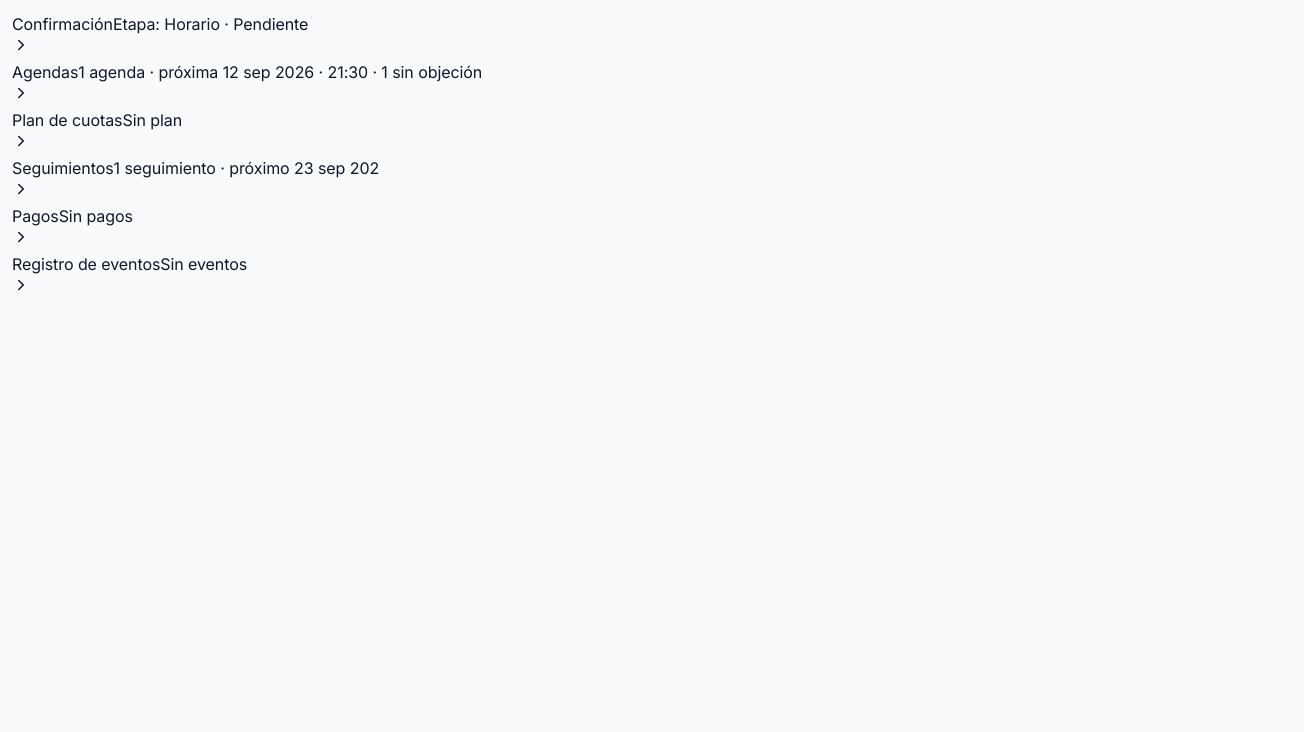
la objeción de una llamada que no cerró, en el historial › si el backend la rechaza, el motivo queda al lado del botón y el texto no se pierde
Click the button "Agendas". click: (247, 81)
box: [12, 60, 482, 102]
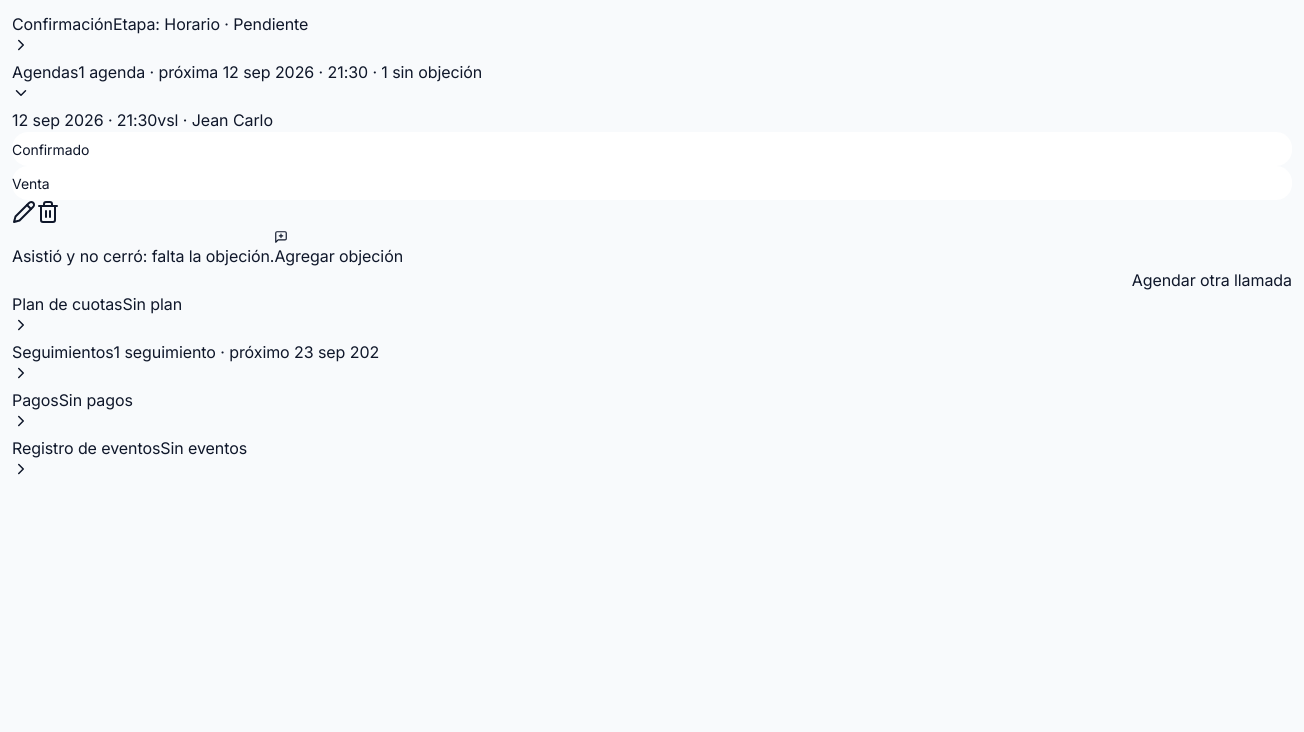
Click the button with aria-label "Agregar la objeción". click: (339, 249)
box: [274, 230, 403, 268]
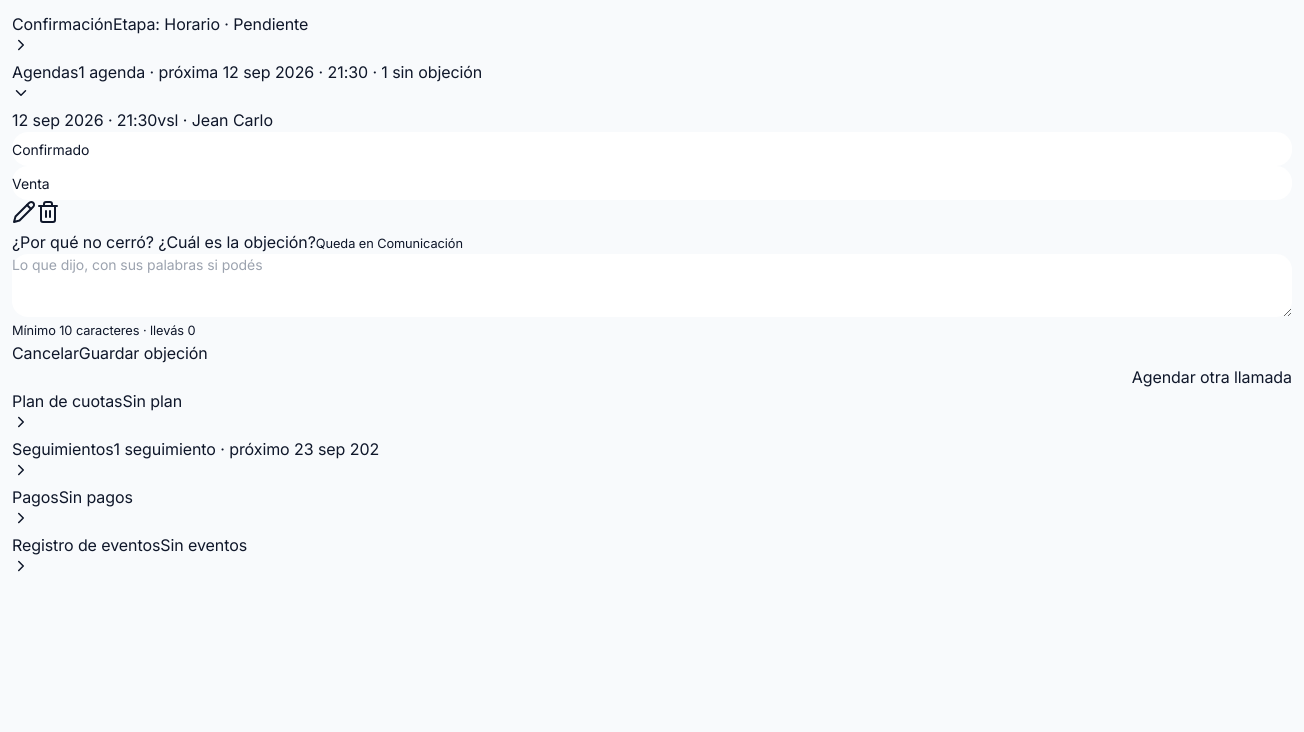
Type "Lo tiene que pensar bien" into the text box labelled "¿Por qué no cerró? ¿Cuál es la objeción?". click: (652, 286)
box: [12, 254, 1292, 317]
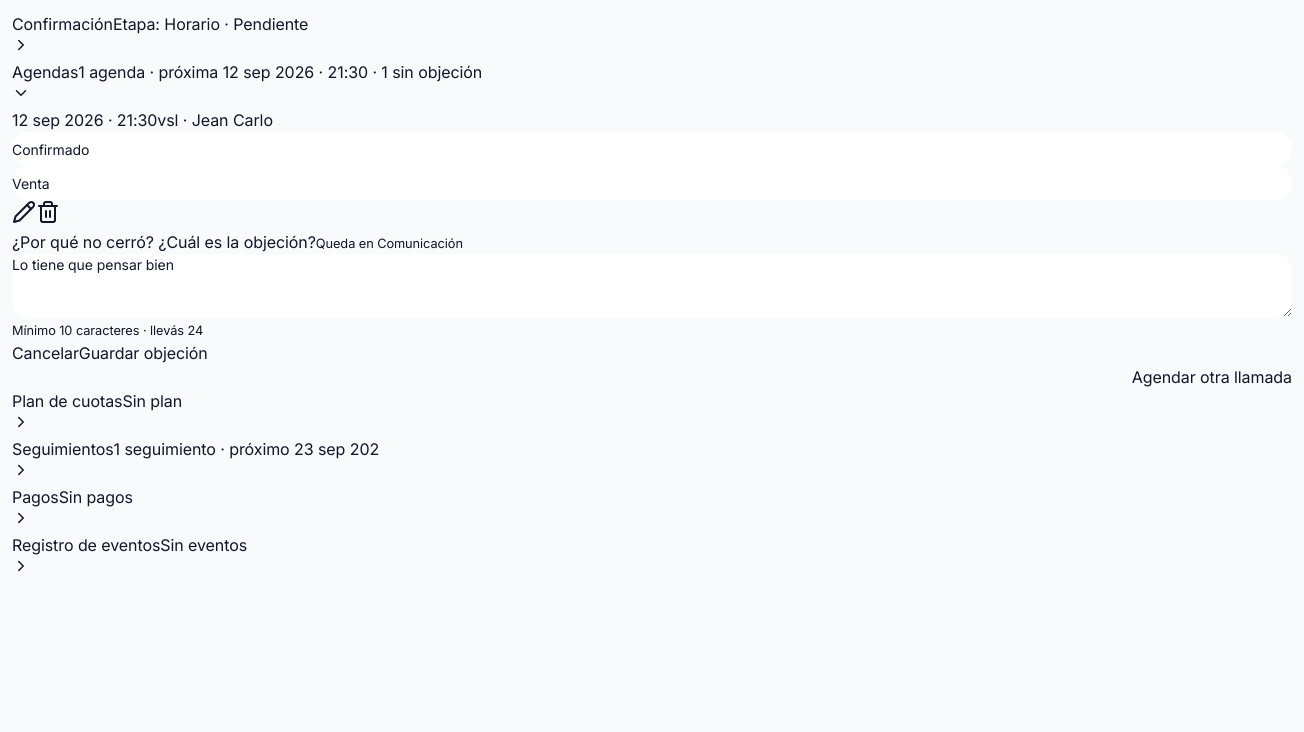
Click the button "Guardar objeción". click: (143, 353)
box: [79, 341, 208, 365]
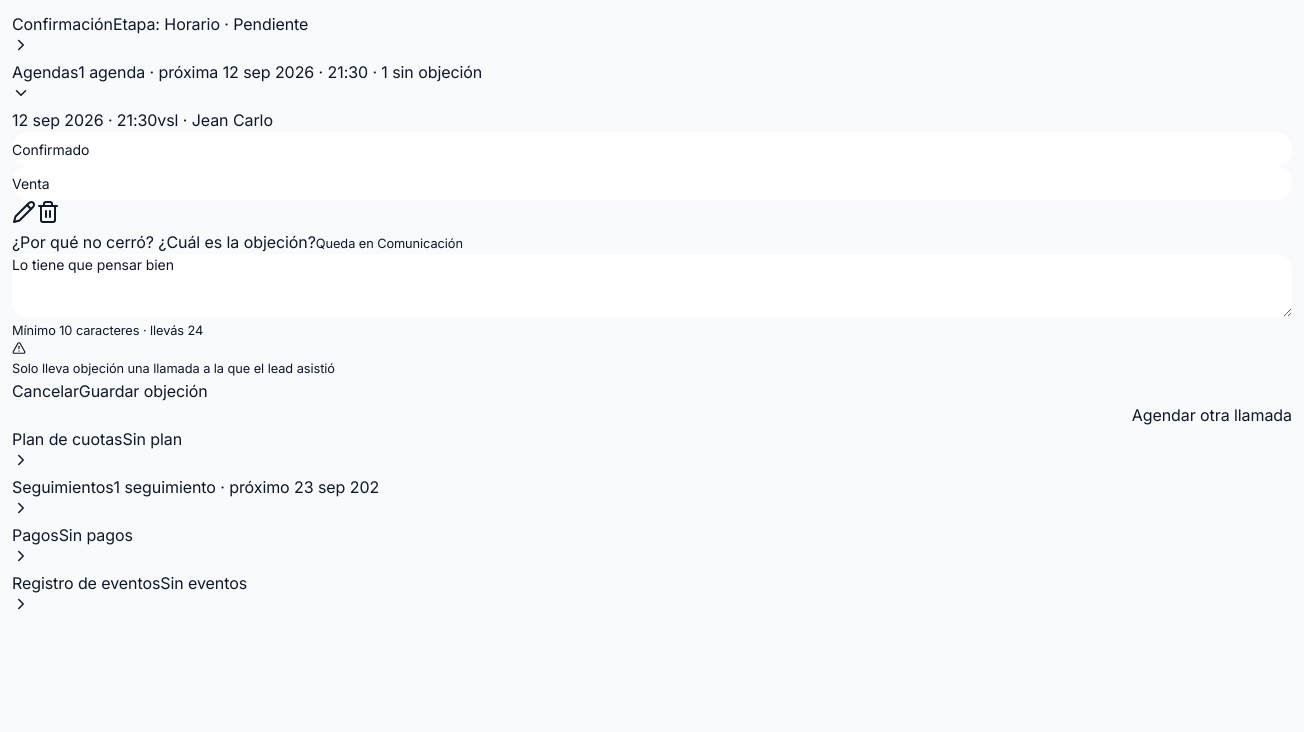
Now the message shows "Solo lleva objeción una llamada", box [12, 361, 335, 376]
